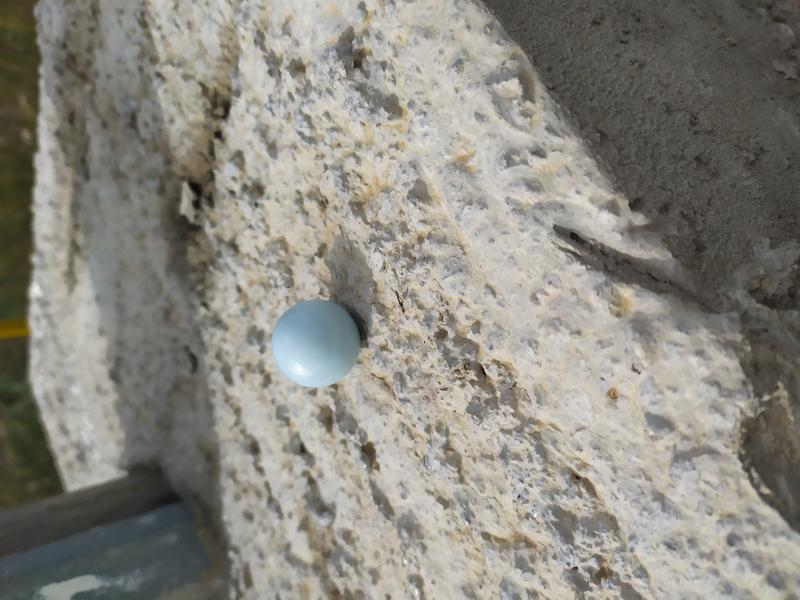Warning: (269, 296, 365, 391)
